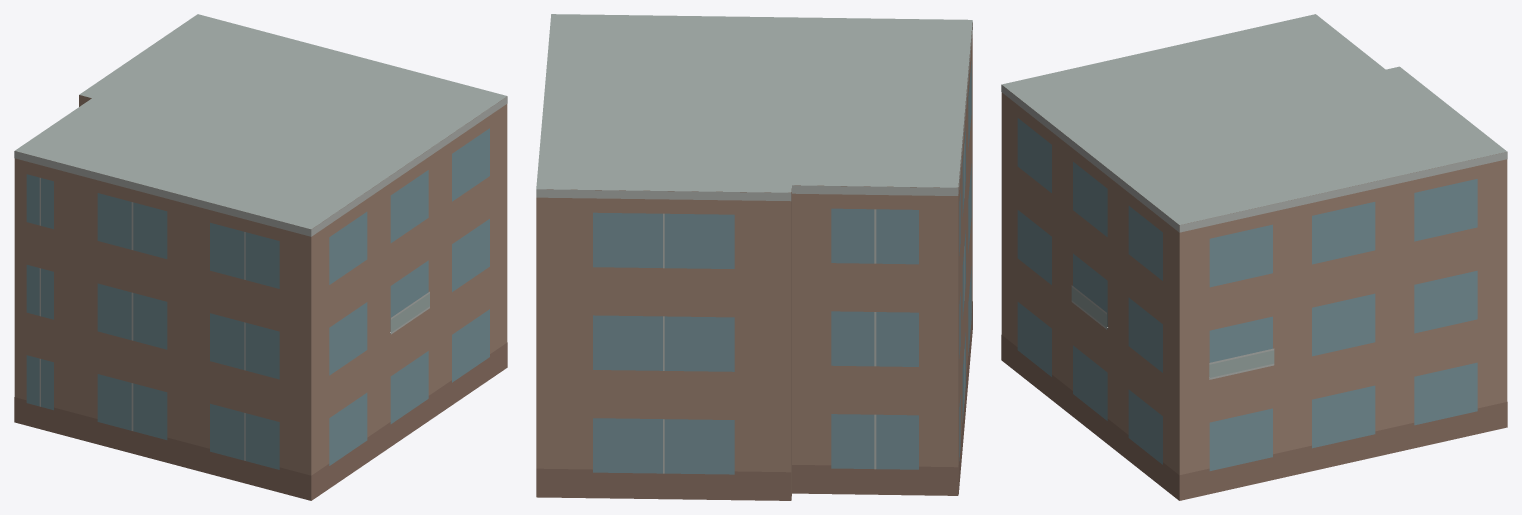
The model's file is survey-upis-32745859.glb.
The picture shows the model from 3 angles, left to right: view 1: azimuth 30°, elevation 25°; view 2: azimuth 150°, elevation 25°; view 3: azimuth 270°, elevation 25°; orthographic projection. The views are drawn at different scales.
Parts seen in each view (by area): view 1: survey-upis-32745859.tmp; view 2: survey-upis-32745859.tmp; view 3: survey-upis-32745859.tmp.
Boxes of the visible parts, x1=… form: survey-upis-32745859.tmp: x1=14, y1=14, x2=507, y2=500; survey-upis-32745859.tmp: x1=536, y1=14, x2=972, y2=500; survey-upis-32745859.tmp: x1=1001, y1=14, x2=1507, y2=500.
Bounding box in the file's own units: 14.62 × 8.9 × 14.81.
